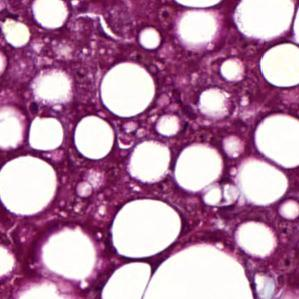steatosis: (110, 196, 182, 253), (100, 59, 155, 116), (75, 110, 116, 163)
